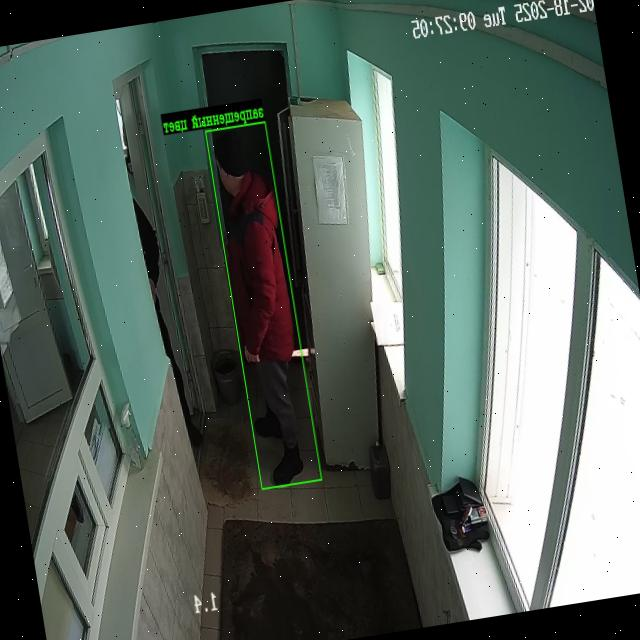Person: (133, 199, 202, 445)
Red uniform: (216, 130, 303, 485)
